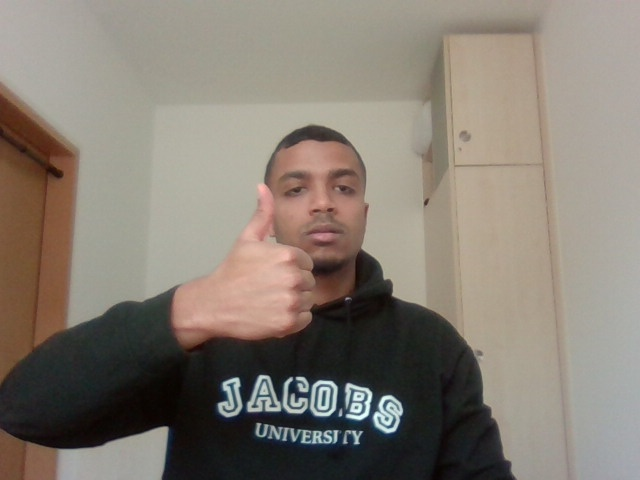perfect: (169, 165, 328, 382)
